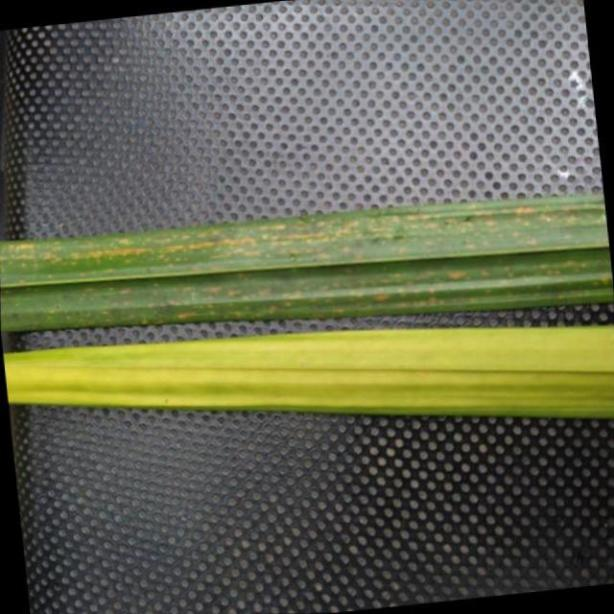nitrogen: (0, 189, 614, 331), (1, 326, 614, 415)
